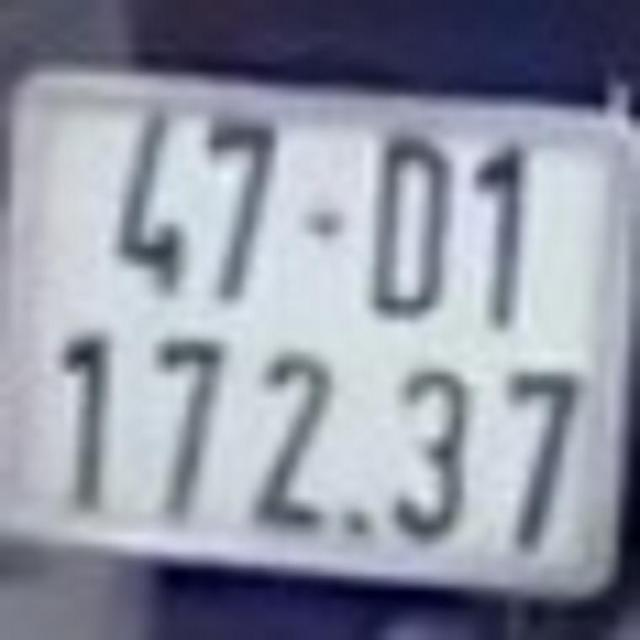1: (478, 128, 526, 328), (65, 329, 112, 514)
2: (260, 352, 330, 537)
3: (393, 361, 466, 530)
4: (118, 105, 192, 296)
7: (207, 109, 277, 308), (509, 363, 582, 552), (157, 332, 219, 530)
D: (374, 131, 454, 311)
